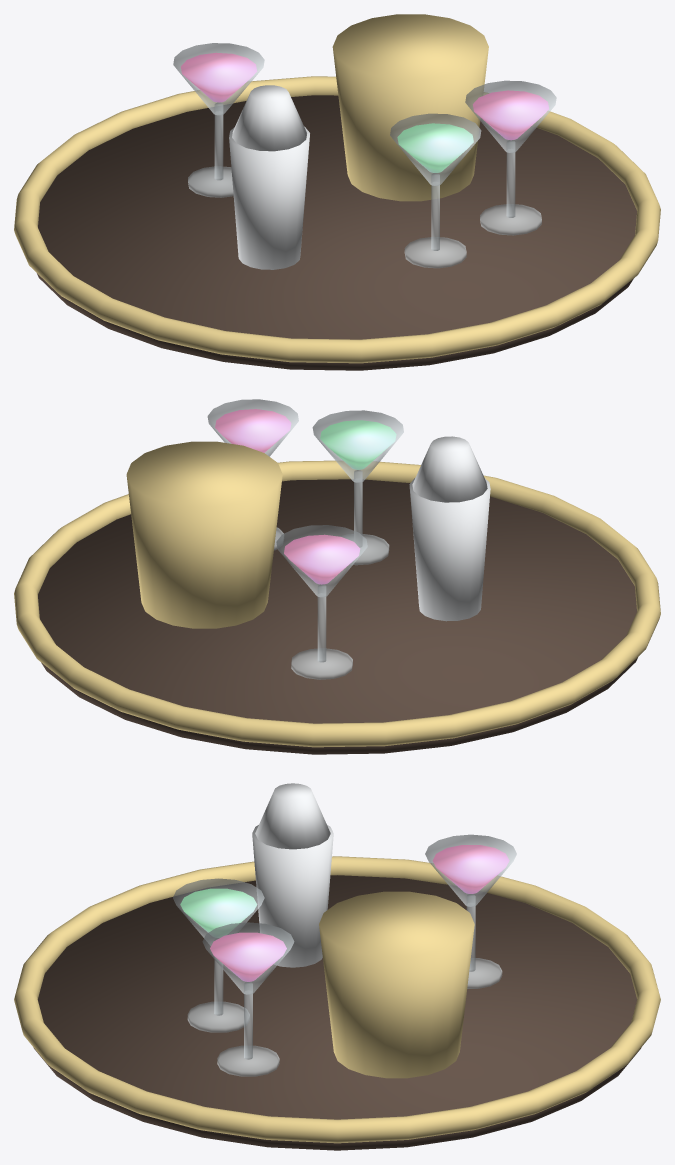
File: cocktail_bar_set.glb
3 renders of one model, top to bottom at view 1: azimuth 30°, elevation 25°; view 2: azimuth 150°, elevation 25°; view 3: azimuth 270°, elevation 25°, orthographic.
Parts seen in each view (by area): view 1: Tray; view 2: Tray; view 3: Tray.
Part boxes in pixels (x1=…): Tray: x1=14, y1=14, x2=660, y2=370; Tray: x1=14, y1=399, x2=660, y2=754; Tray: x1=14, y1=783, x2=660, y2=1150.
Bounding box in the file's own units: 0.872 × 0.273 × 0.872.
